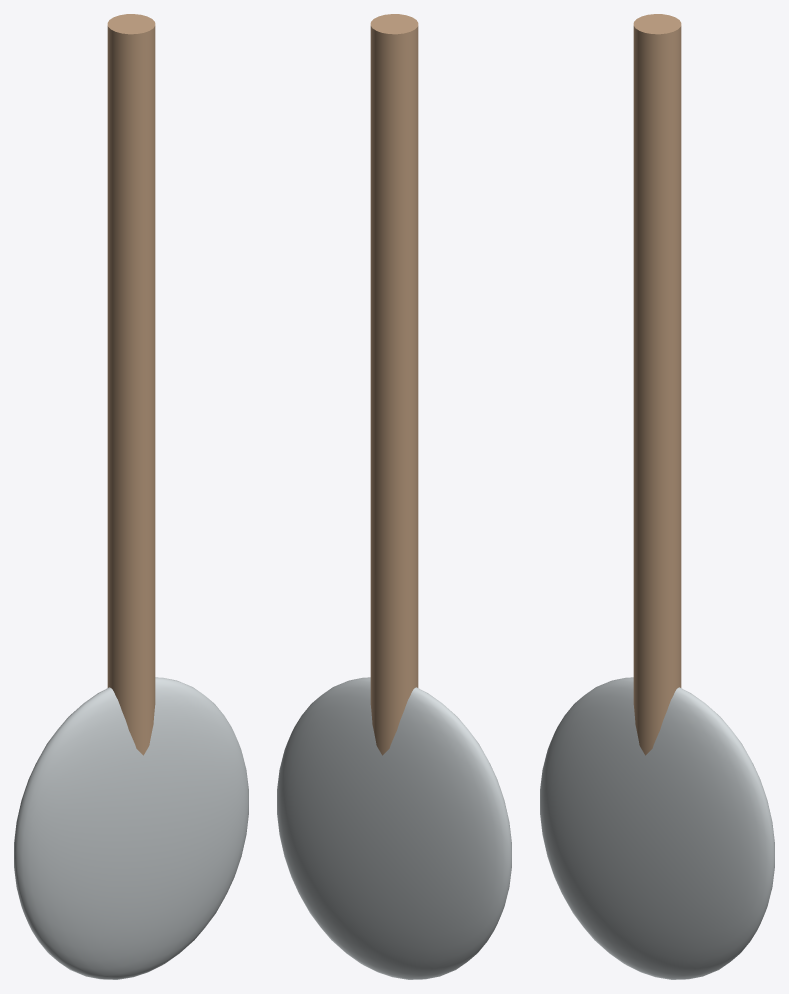
File: garden_spade.glb
3 renders of one model, left to right at view 1: azimuth 30°, elevation 25°; view 2: azimuth 150°, elevation 25°; view 3: azimuth 330°, elevation 25°, orthographic.
Visible parts, largest first — view 1: part_001, part_000; view 2: part_001, part_000; view 3: part_001, part_000.
Part boxes in pixels (x1,y1,x2,y2): part_001: (14,677,248,979); part_000: (107,14,155,755); part_001: (277,677,511,979); part_000: (370,14,418,755); part_001: (540,677,774,979); part_000: (633,14,681,755).
Bounding box in the file's own units: 0.28 × 1.09 × 0.06.
